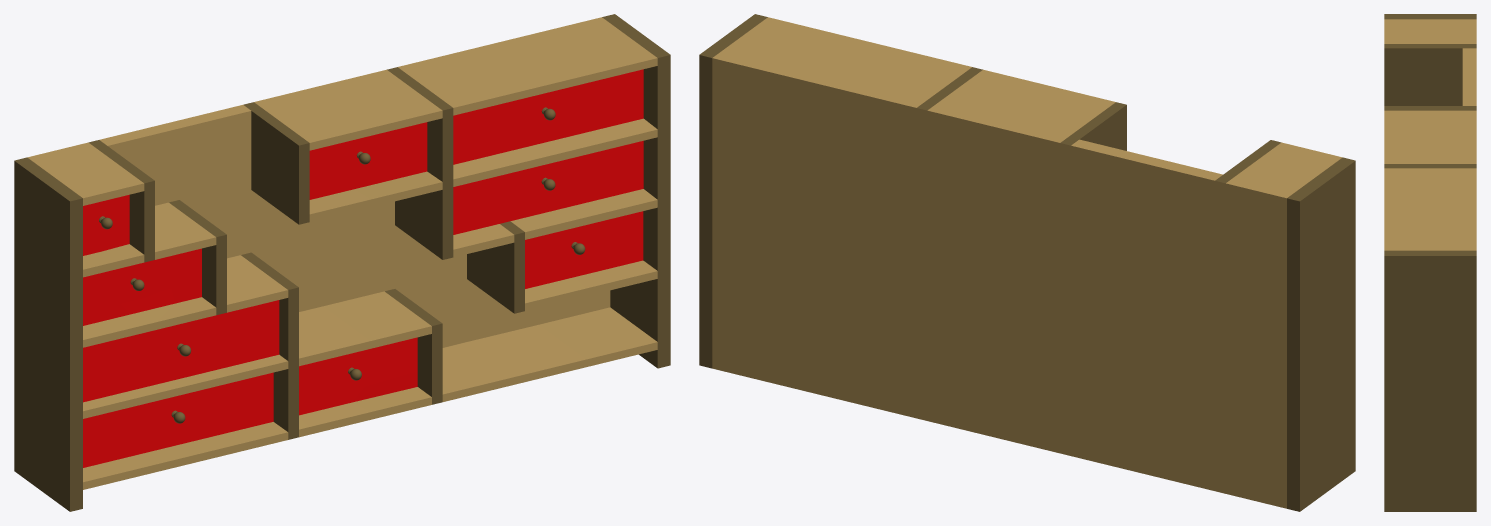
File: tana.fbx
3 renders of one model, left to right at view 1: azimuth 30°, elevation 25°; view 2: azimuth 150°, elevation 25°; view 3: azimuth 270°, elevation 25°, orthographic. The views are drawn at different scales.
Parts seen in each view (by area): view 1: shelf; view 2: shelf; view 3: shelf.
Boxes of the visible parts, bbox=[...] form: shelf: bbox=[14, 14, 670, 511]; shelf: bbox=[699, 14, 1355, 511]; shelf: bbox=[1384, 14, 1476, 511].
Size of the model in its own units: 18.25 by 9.01 by 2.94.
1 material, 1 textured.
